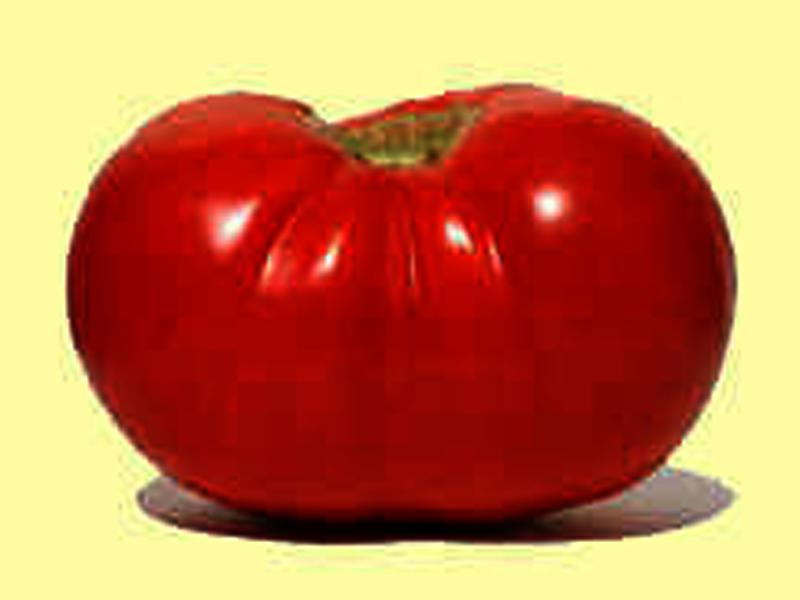Tomato: (66, 83, 732, 521)
